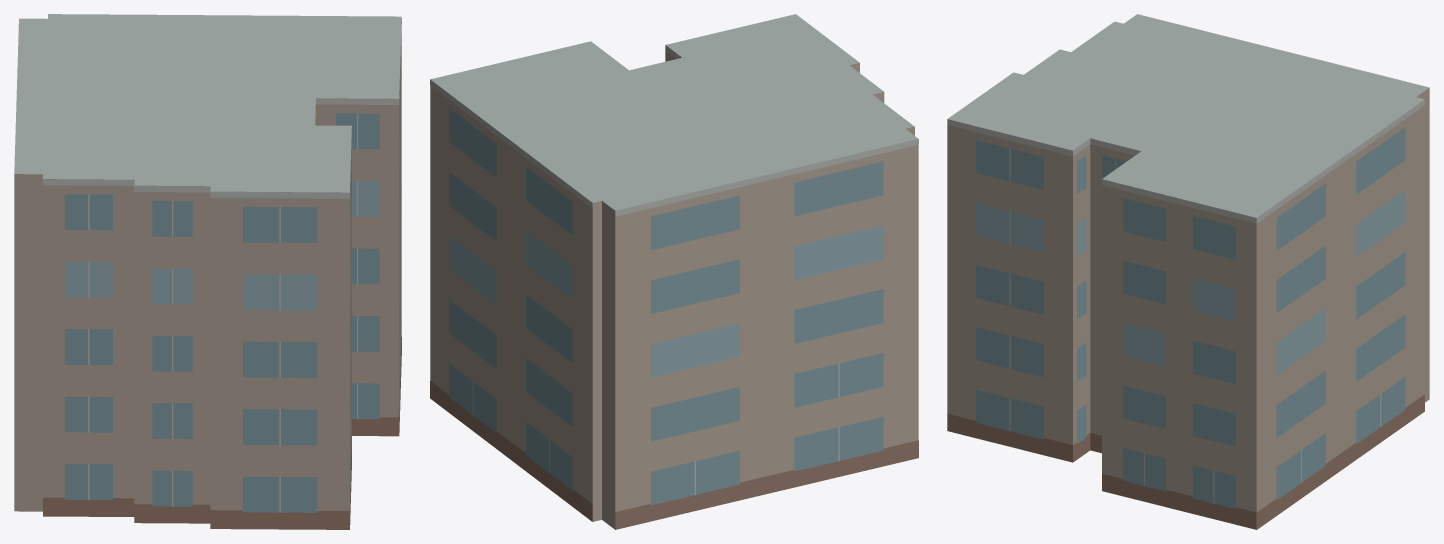
The model's file is survey-upis-32773968.glb.
3 renders of one model, left to right at view 1: azimuth 30°, elevation 25°; view 2: azimuth 150°, elevation 25°; view 3: azimuth 270°, elevation 25°, orthographic. The views are drawn at different scales.
Parts seen in each view (by area): view 1: survey-upis-32773968.tmp; view 2: survey-upis-32773968.tmp; view 3: survey-upis-32773968.tmp.
Part boxes in pixels (x1,y1,x2,y2): survey-upis-32773968.tmp: [14, 14, 401, 529]; survey-upis-32773968.tmp: [430, 14, 918, 529]; survey-upis-32773968.tmp: [947, 14, 1429, 529].
Bounding box in the file's own units: 18.52 × 13.2 × 18.51.
